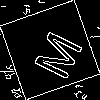M: (25, 25, 84, 82)
